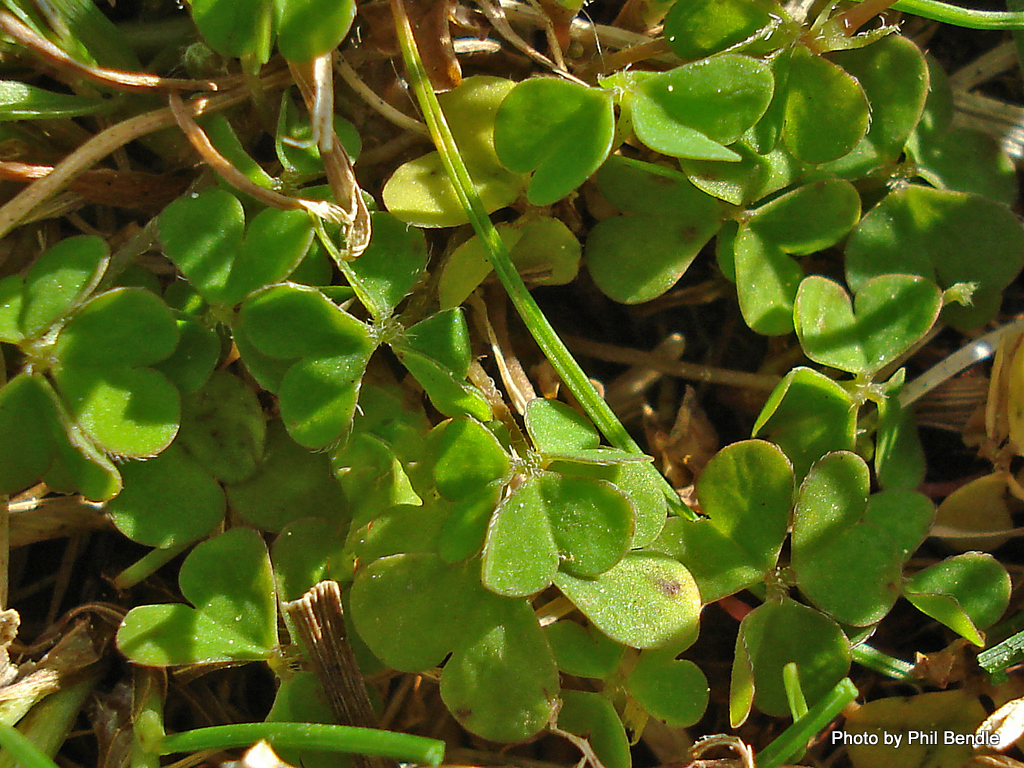oxalis: (65, 82, 985, 742)
